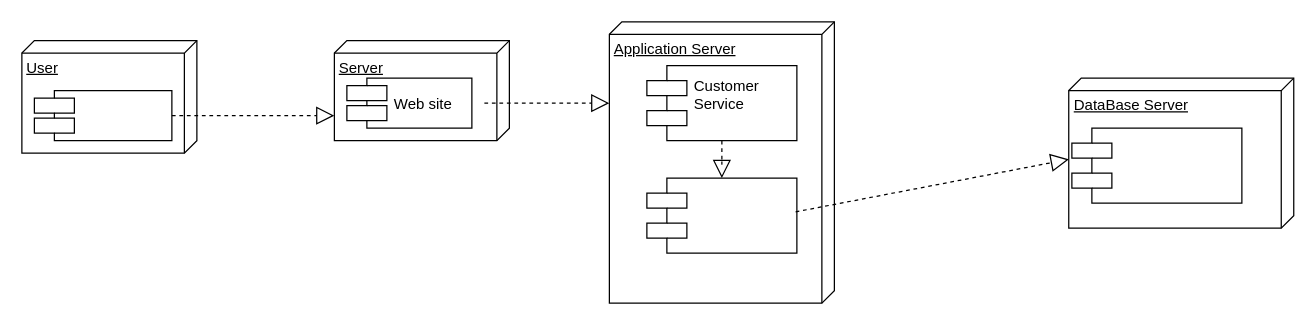
Image size: 1316x325. Some labels were removed from this diagram. Each missing label, with the centre of its shape:
Data acces tools: the point at 721,215
MySQL DataBase: the point at 1156,165
Web Browser: the point at 102,115
